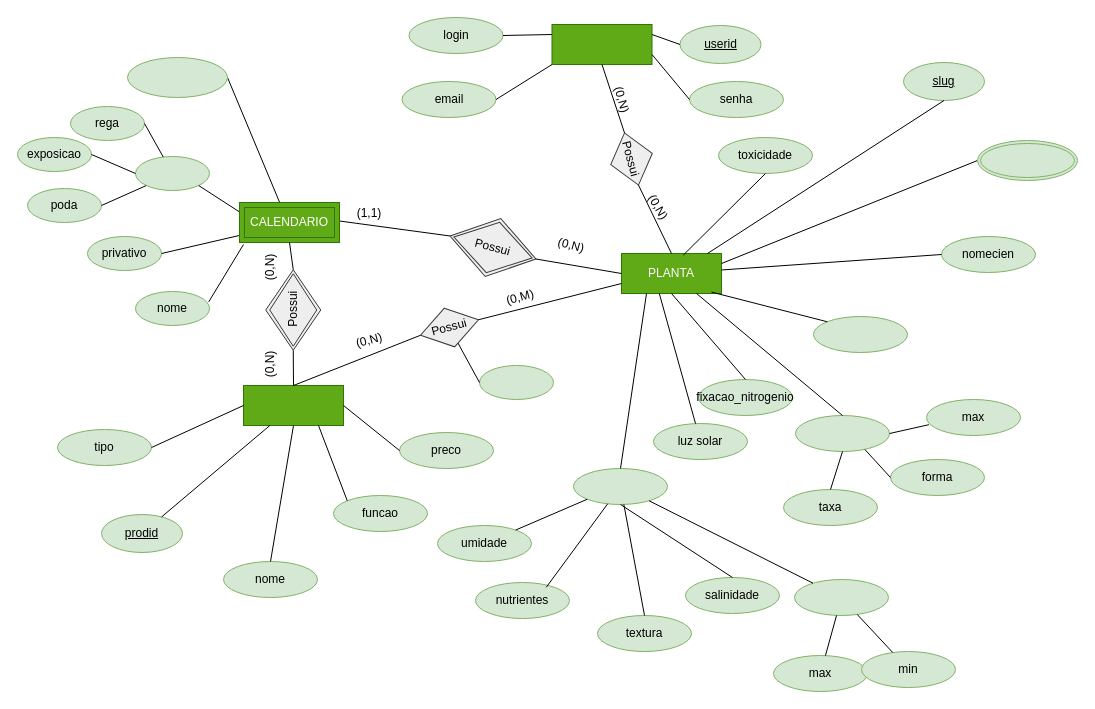
The diagram is 1095 pixels wide and 709 high, and some of its shapes have lost their labels. The box of each missing label's shape, as (x1, y1, x2, y2) in pixels:
calenid: (126, 56, 228, 98)
crescimento: (794, 414, 890, 452)
frequencia: (478, 364, 554, 400)
imagem_url: (812, 316, 908, 352)
nomes_pop: (976, 140, 1078, 180)
padroes: (134, 156, 210, 190)
ph: (794, 578, 888, 616)
PRODUTO: (242, 384, 344, 426)
solo: (572, 468, 668, 504)
USUARIO: (551, 24, 652, 64)
